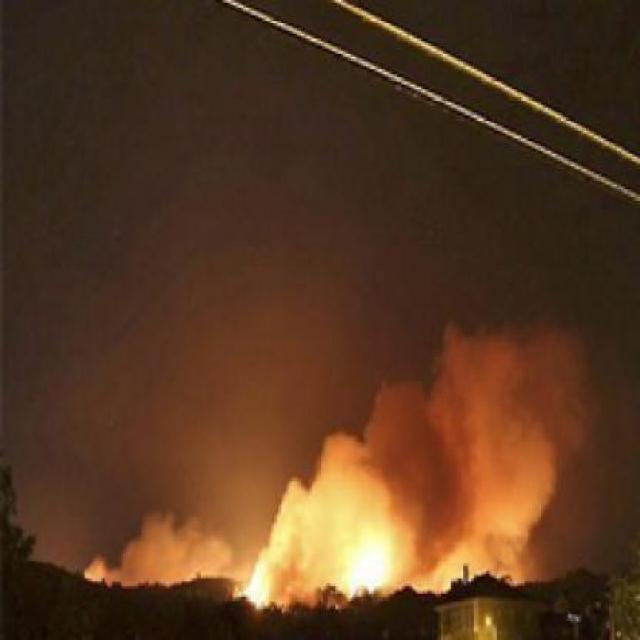Fire: (91, 462, 522, 635)
Smoke: (391, 291, 567, 541)
